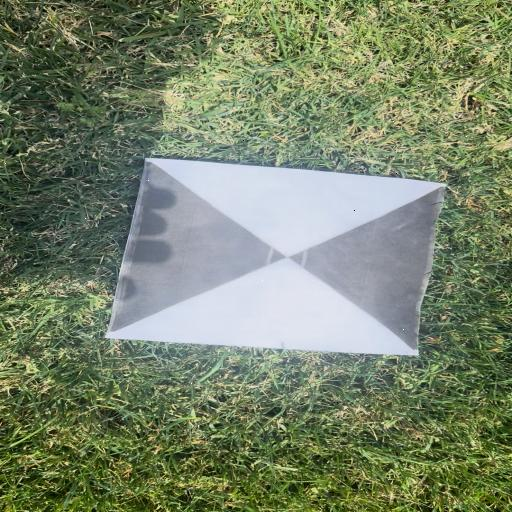target: (102, 158, 446, 356)
